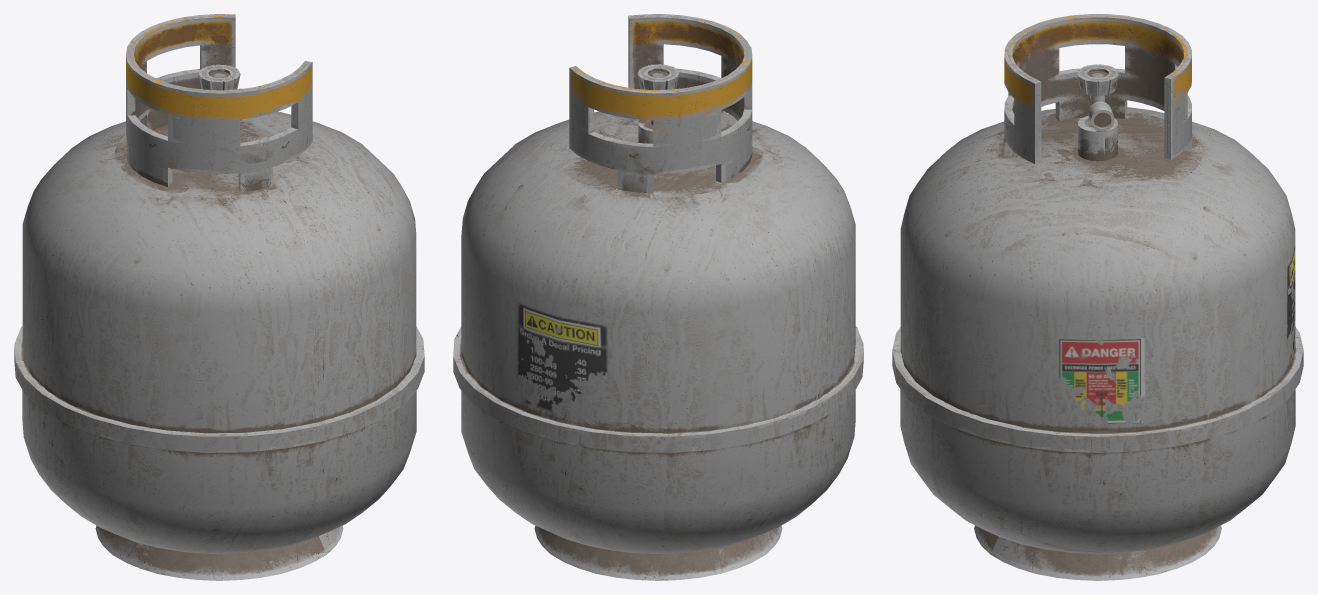
The model's file is SM_Gastank_02.glb.
3 views of the same model, side by side, from view 1: azimuth 30°, elevation 25°; view 2: azimuth 150°, elevation 25°; view 3: azimuth 270°, elevation 25° (orthographic).
Parts seen in each view (by area): view 1: SM_Gastank_02; view 2: SM_Gastank_02; view 3: SM_Gastank_02.
Part boxes in pixels (x1,y1,x2,y2): SM_Gastank_02: [14, 14, 424, 580]; SM_Gastank_02: [453, 14, 863, 580]; SM_Gastank_02: [892, 14, 1303, 580].
Bounding box in the file's own units: 0.4115 × 0.524 × 0.4115.
1 material, 1 textured.
